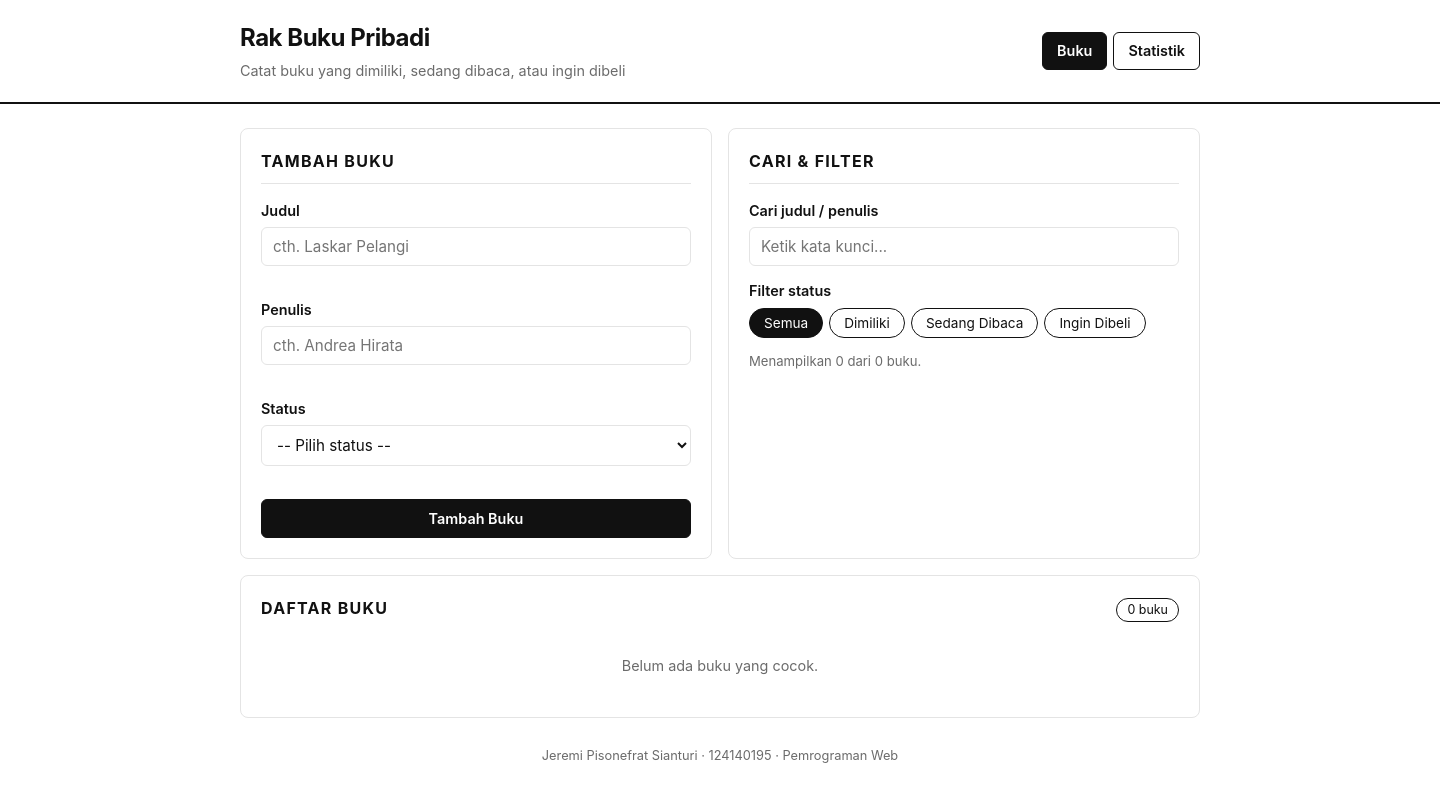
Test: App (integrasi) › mengedit buku yang sudah ada
The width and height of the screenshot is (1440, 810).
Type "Judul Lama" into the field labelled "Judul".
click(476, 247); type("Judul Lama")  # box [261,227,691,266]
Type "Penulis" into the field labelled "Penulis".
click(476, 346); type("Penulis")  # box [261,326,691,365]
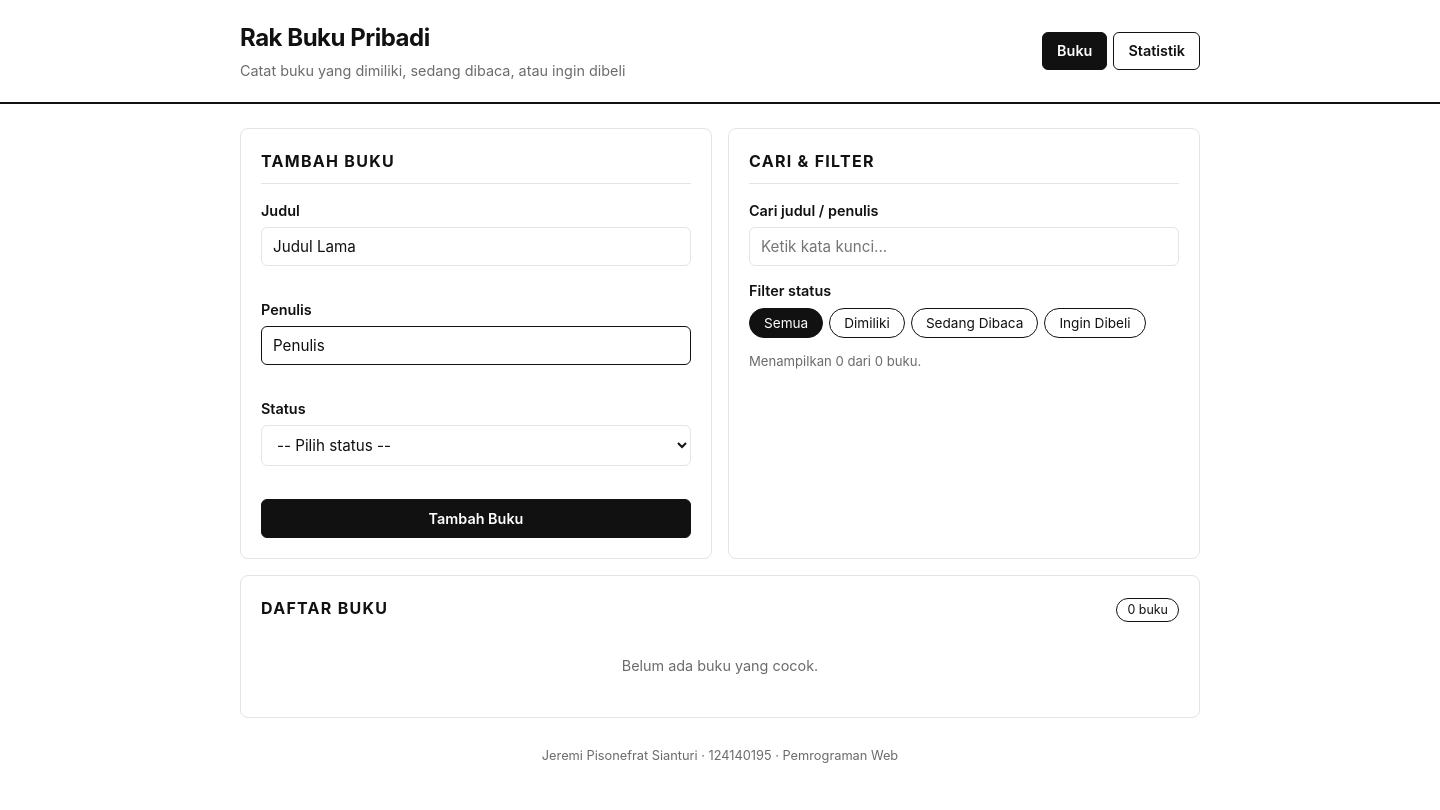
Select "Dimiliki" in the dropdown labelled "Status" at (476, 446), box [261,425,691,466]
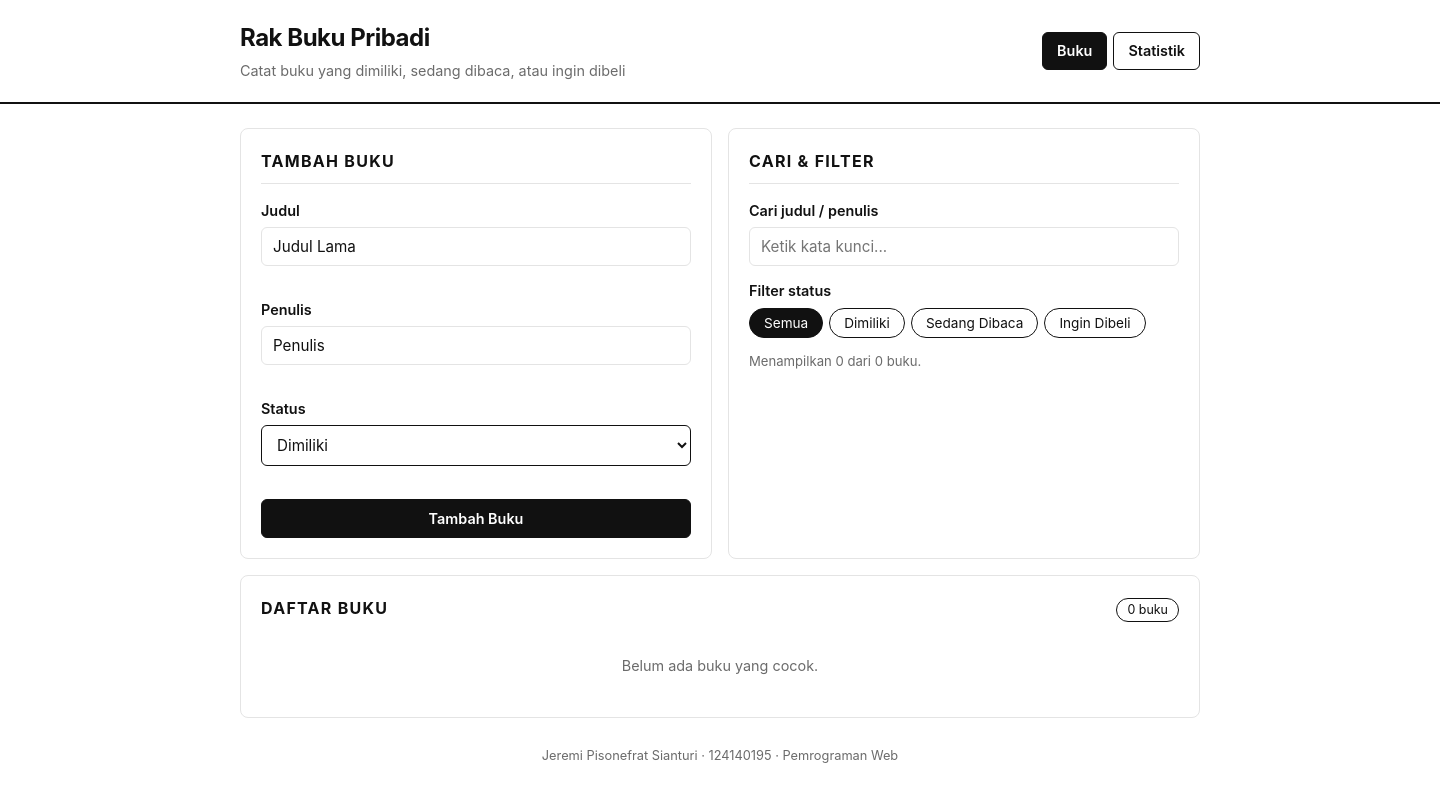
Click the button "Tambah Buku".
click(476, 518)  # box [261,499,691,538]
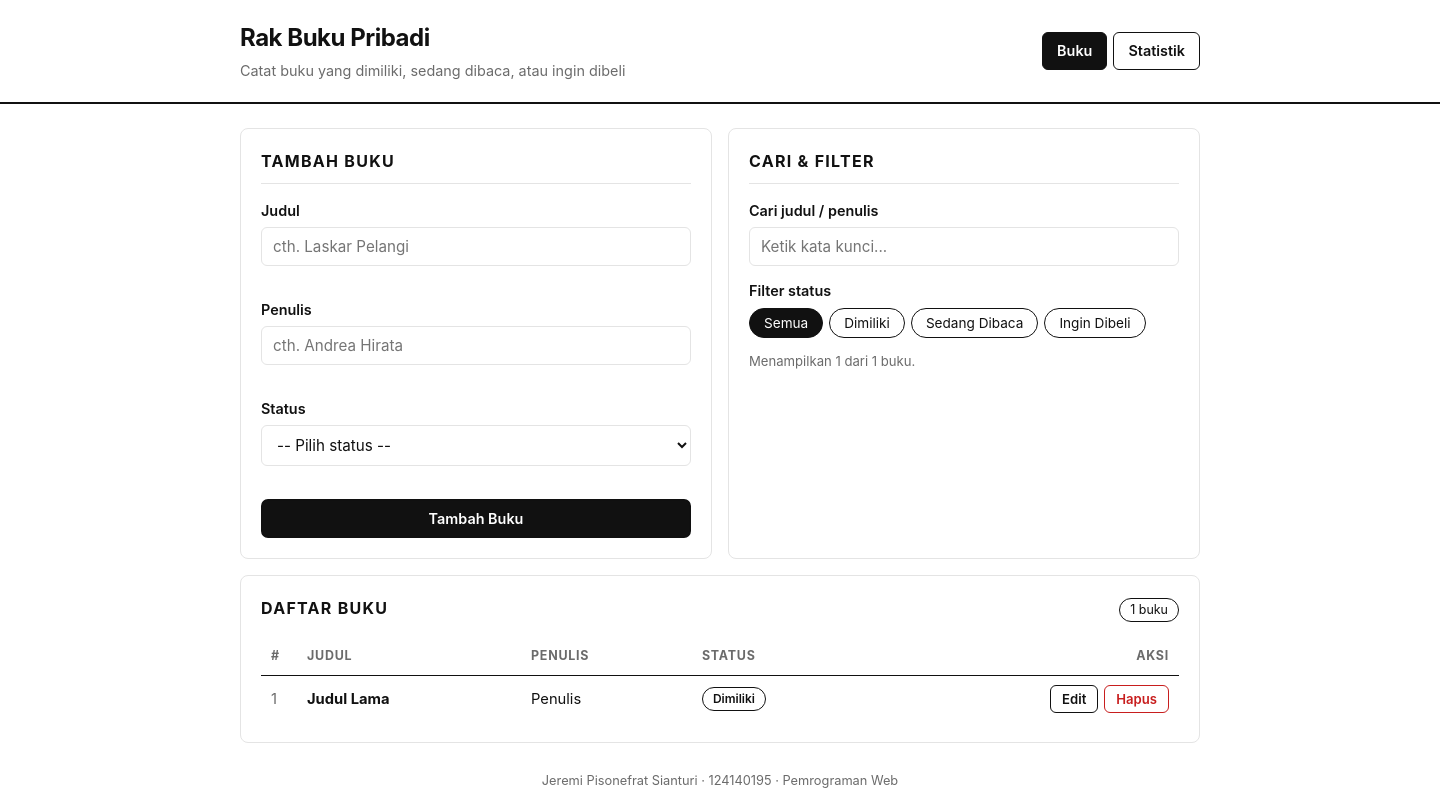
Click the button with aria-label "Edit Judul Lama".
click(1074, 699)  # box [1050,685,1098,713]
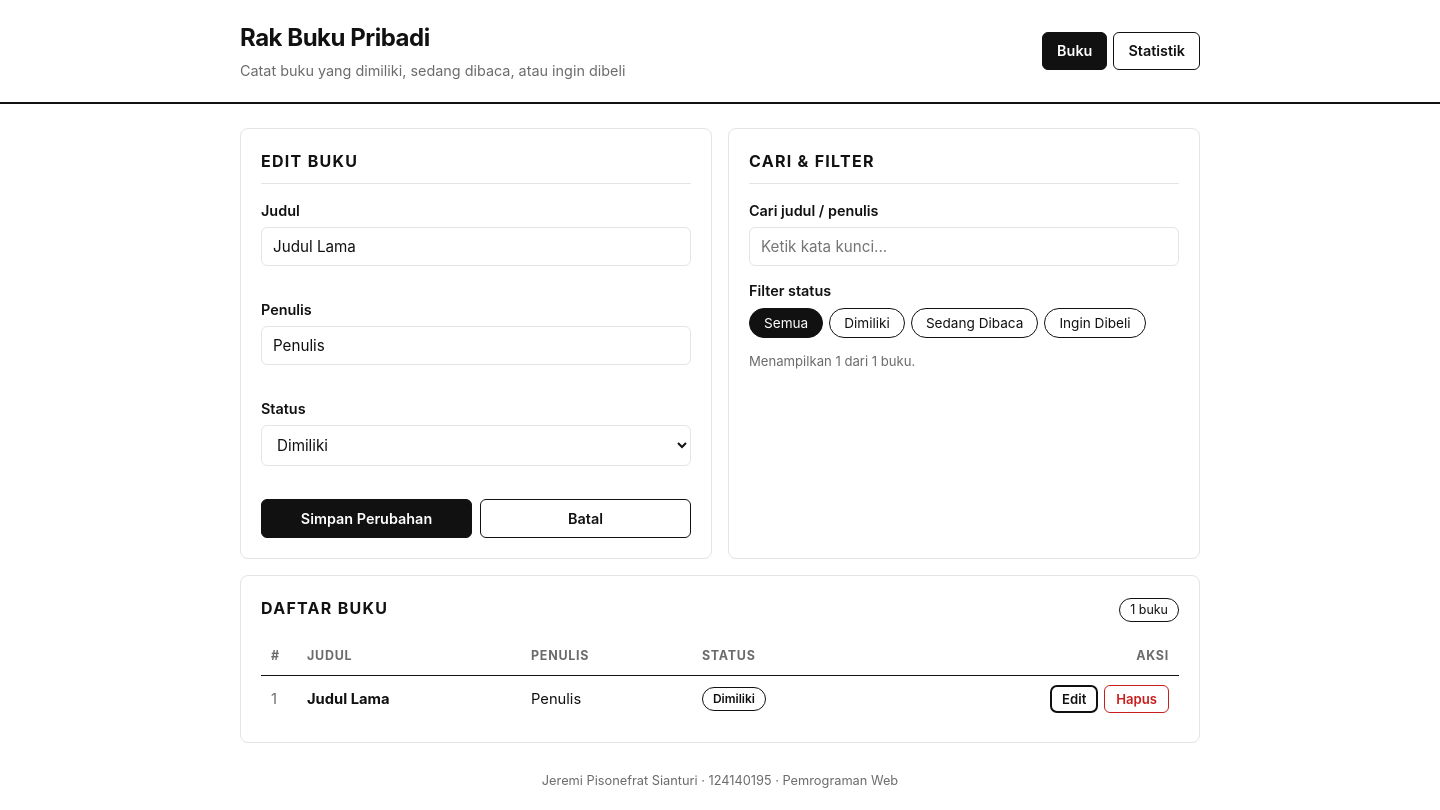
Replace the text in the field labelled "Judul" with "Judul Baru" at (476, 247), box [261,227,691,266]
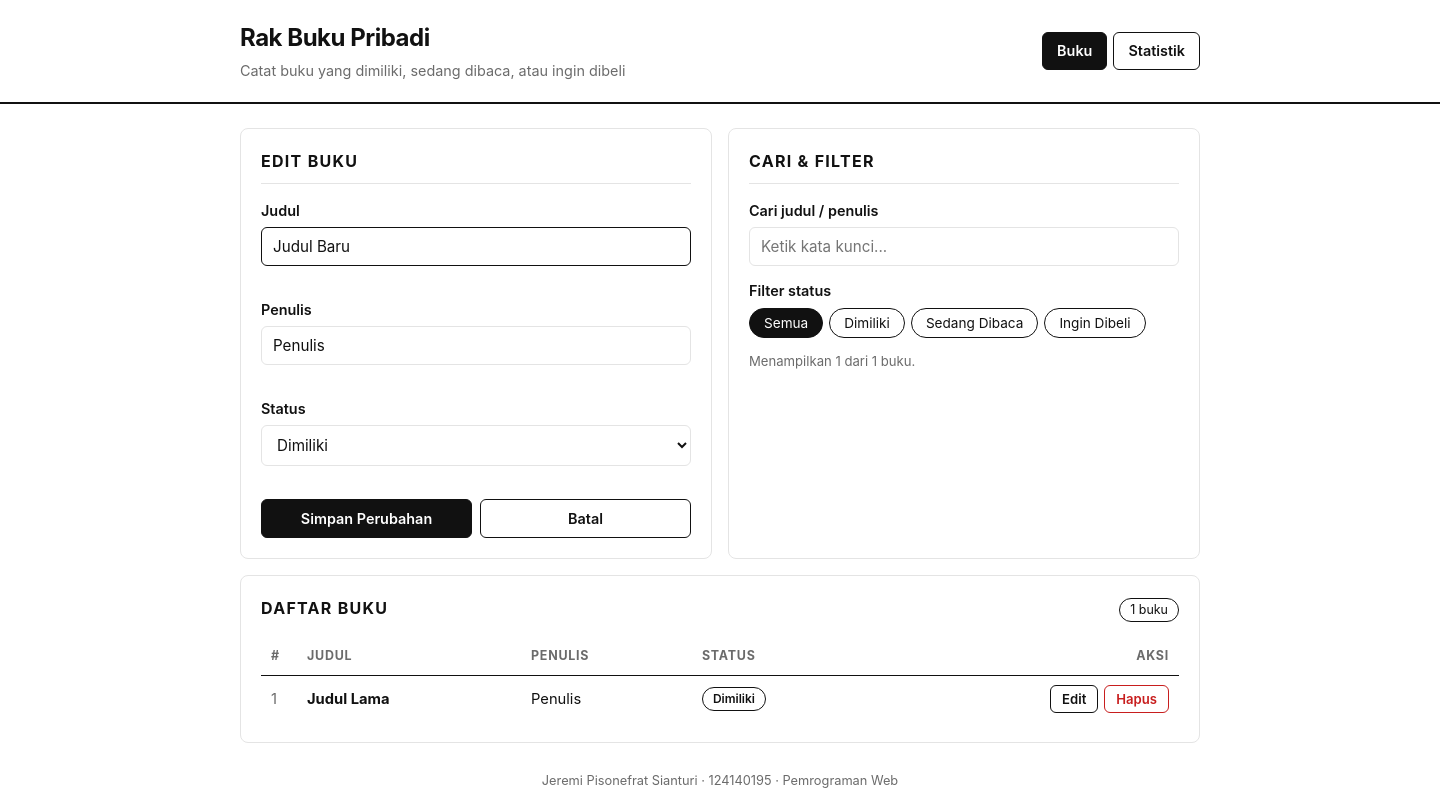
Click the button "Simpan Perubahan".
click(366, 518)  # box [261,499,472,538]
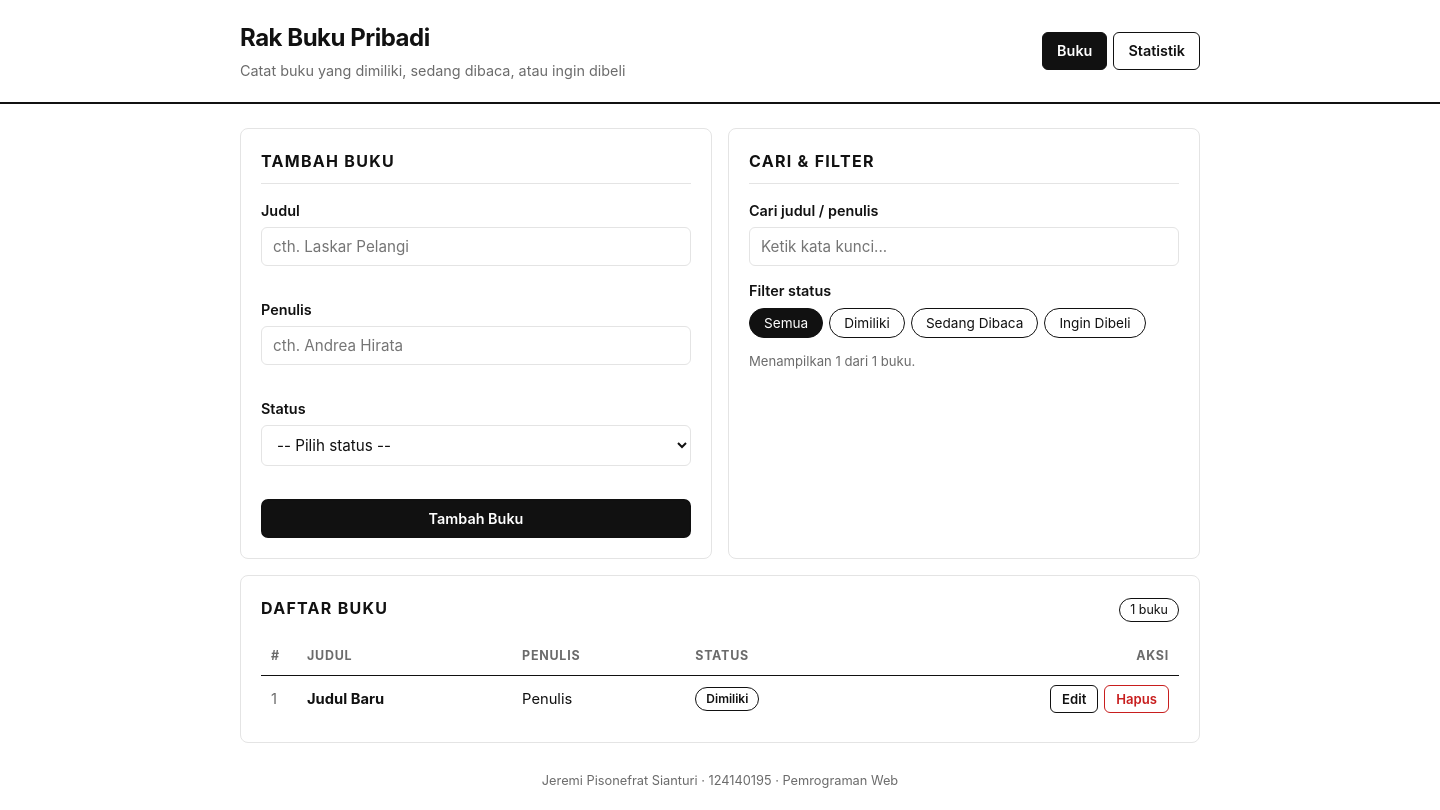
Expected: the text "Judul Baru" is shown, [307,690,384,708]
Expected: the text "Judul Lama" is gone
